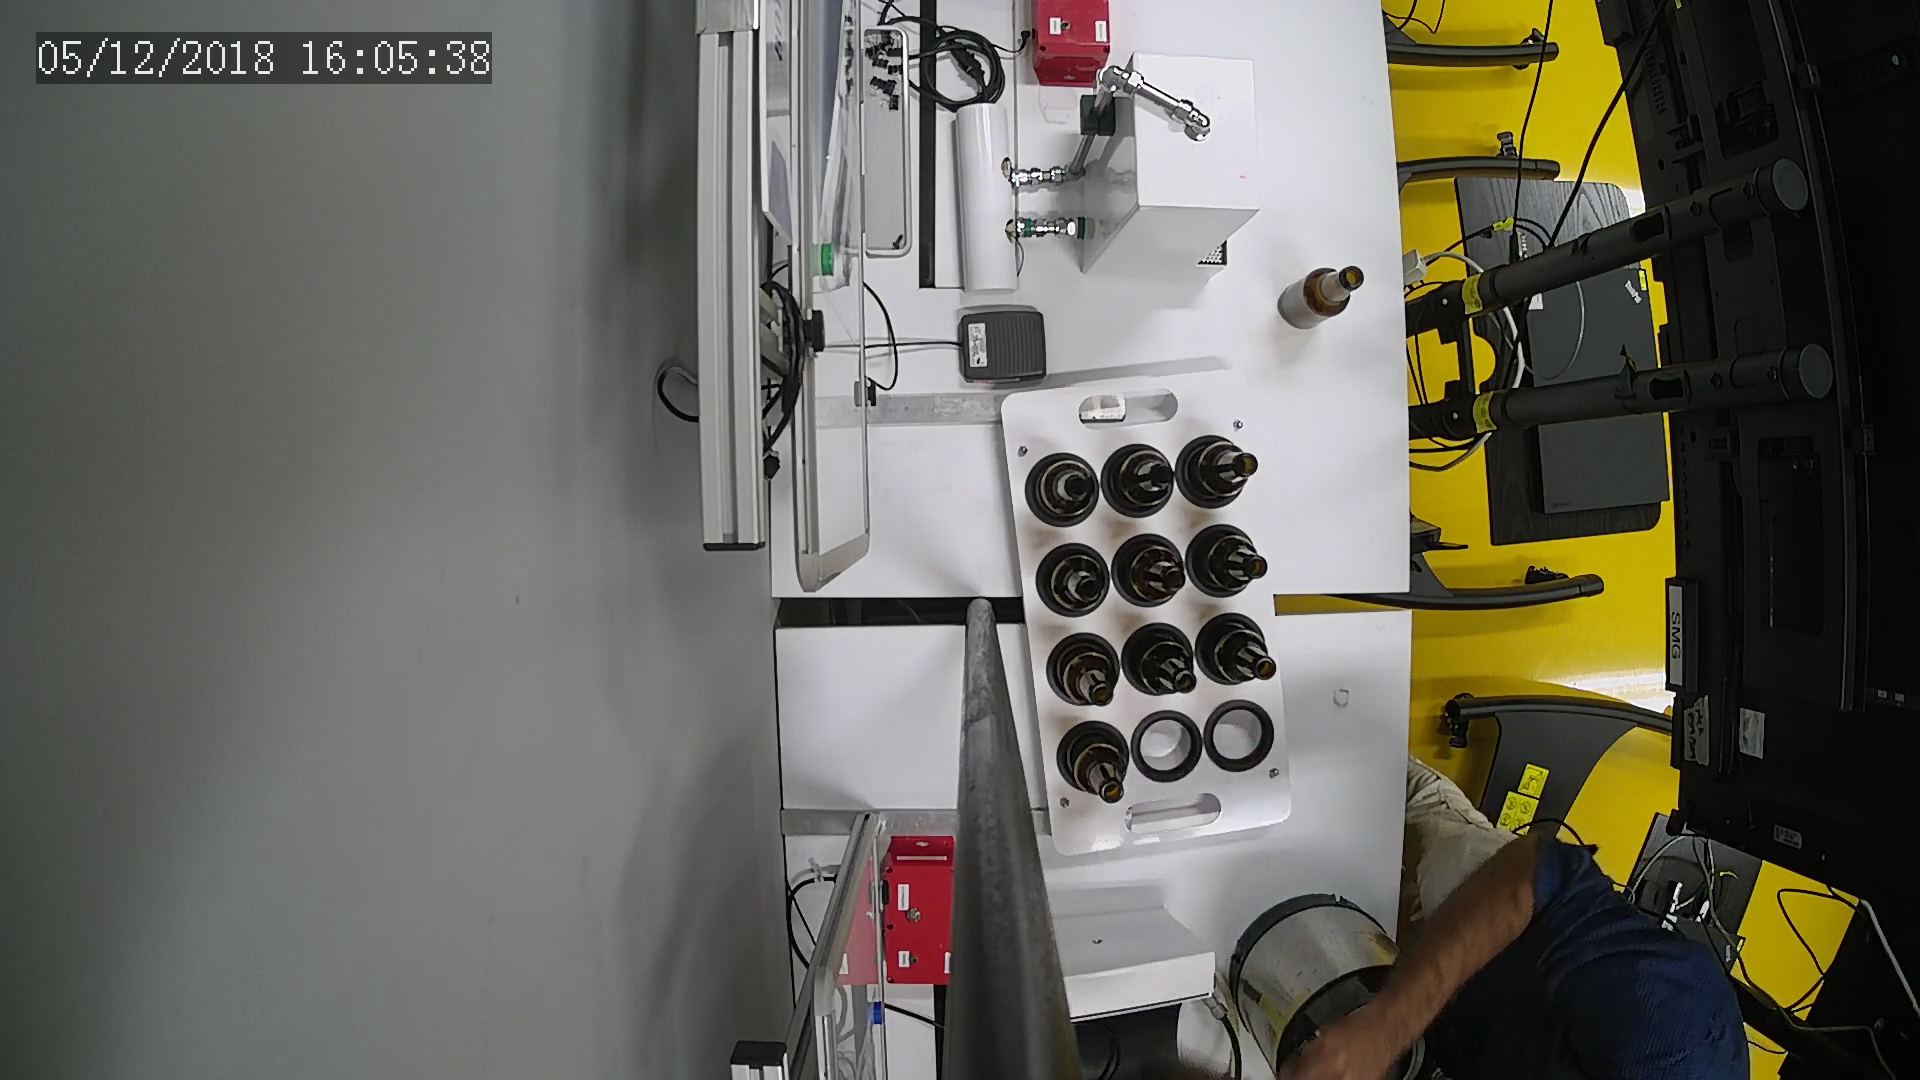filled_bottle: (1054, 720, 1137, 814), (1185, 518, 1273, 605), (1018, 451, 1106, 534), (1197, 605, 1276, 698), (1174, 429, 1261, 512), (1026, 541, 1114, 622), (1101, 438, 1183, 520), (1044, 636, 1127, 715), (1110, 531, 1191, 611), (1120, 626, 1203, 702)
trolley: (1004, 361, 1298, 858)
unfilled_bottle: (1274, 258, 1374, 336)
